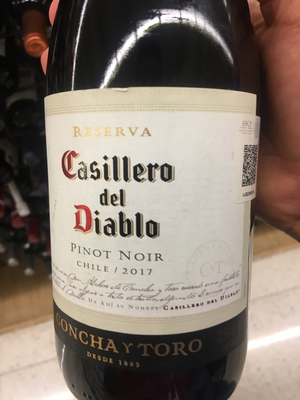casillero del diablo pinot noir: (29, 11, 266, 400)
